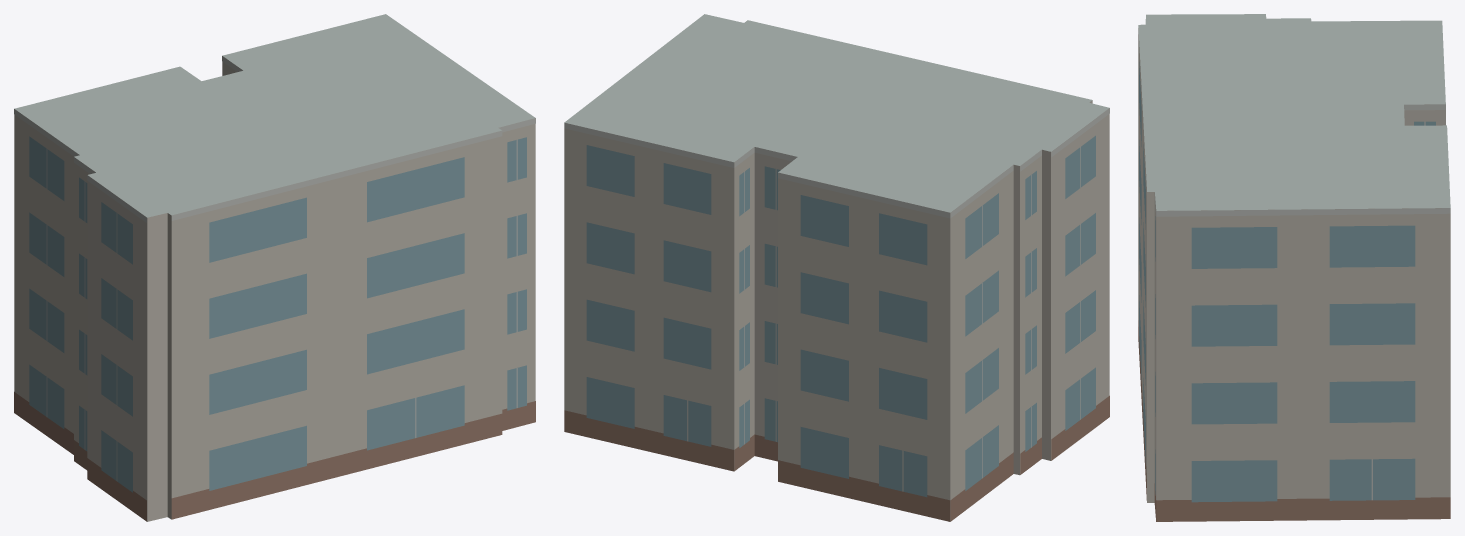
Rendered from survey-upis-32653972.glb.
The picture shows the model from 3 angles, left to right: view 1: azimuth 30°, elevation 25°; view 2: azimuth 150°, elevation 25°; view 3: azimuth 270°, elevation 25°; orthographic projection. The views are drawn at different scales.
Parts seen in each view (by area): view 1: survey-upis-32653972.tmp; view 2: survey-upis-32653972.tmp; view 3: survey-upis-32653972.tmp.
Boxes of the visible parts, x1,y1,x2,y2 form: survey-upis-32653972.tmp: (14, 14, 535, 521); survey-upis-32653972.tmp: (564, 14, 1109, 521); survey-upis-32653972.tmp: (1138, 14, 1450, 521).
Bounding box in the file's own units: 17.73 × 13.05 × 11.89.
